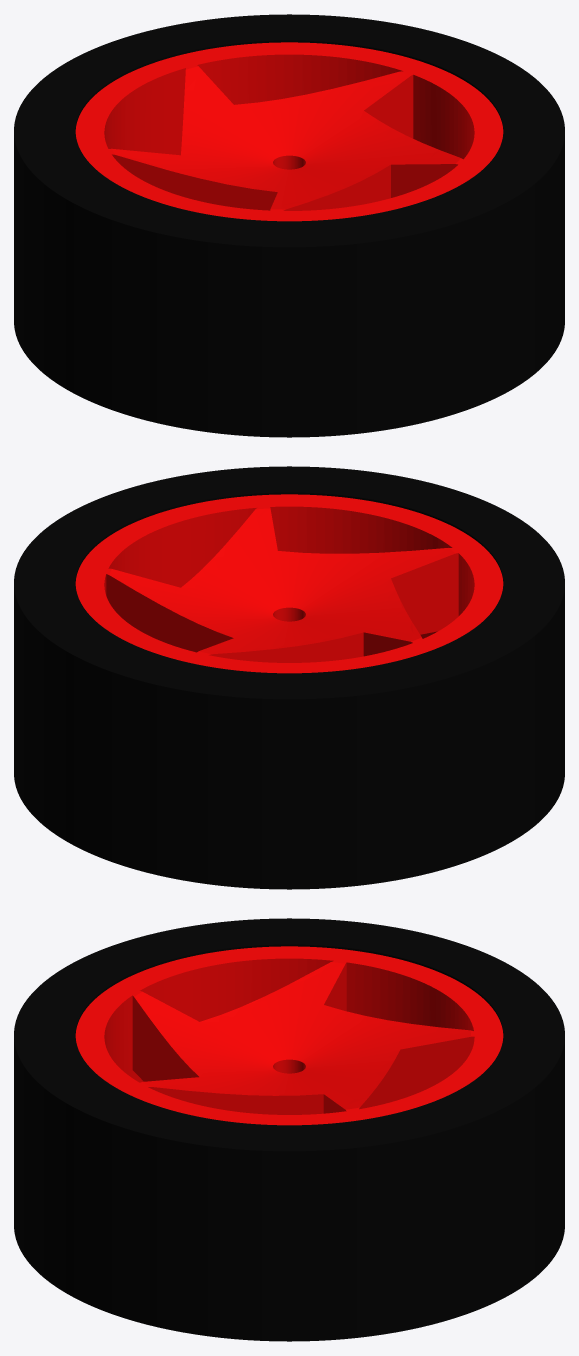
Rendered from WheelFrontLeft.dae.
3 renders of one model, top to bottom at view 1: azimuth 30°, elevation 25°; view 2: azimuth 150°, elevation 25°; view 3: azimuth 270°, elevation 25°, orthographic.
Parts seen in each view (by area): view 1: node0, node1; view 2: node0, node1; view 3: node0, node1.
Part boxes in pixels (bbox=[...]): node0: bbox=[14, 14, 564, 437]; node1: bbox=[75, 42, 503, 221]; node0: bbox=[14, 466, 564, 889]; node1: bbox=[75, 494, 503, 673]; node0: bbox=[14, 918, 564, 1341]; node1: bbox=[75, 946, 503, 1125].
Size of the model in its own units: 0.067 by 0.067 by 0.0255.
